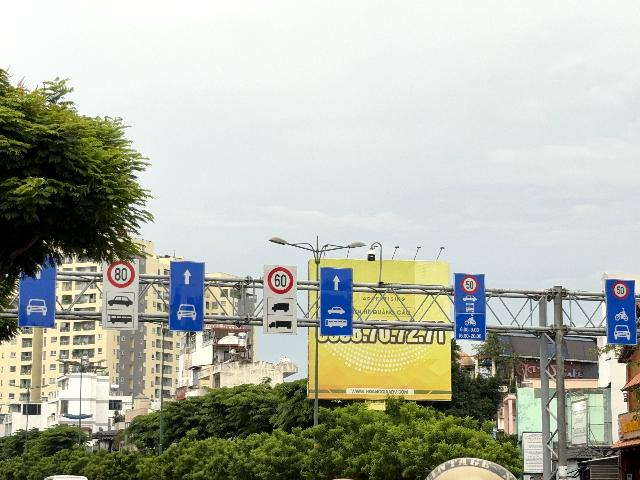toc-do-toi-da-cho-phep: (107, 259, 135, 288), (266, 267, 294, 295), (612, 280, 630, 299), (460, 276, 478, 294)
